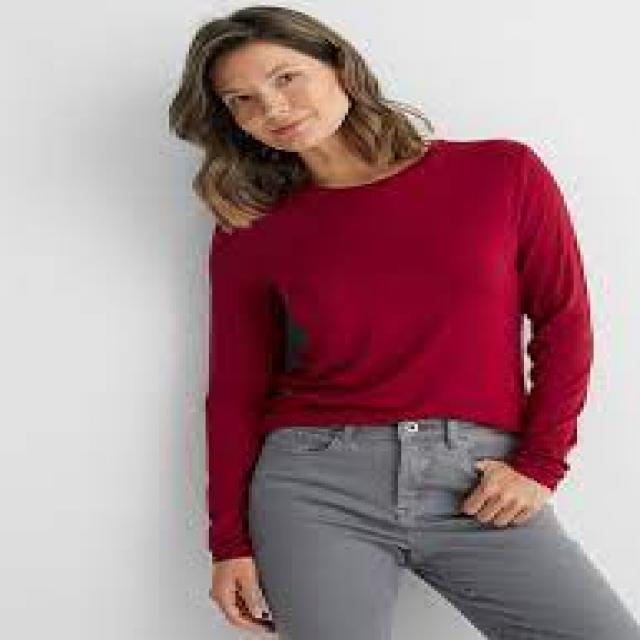plain: (94, 146, 640, 465)
